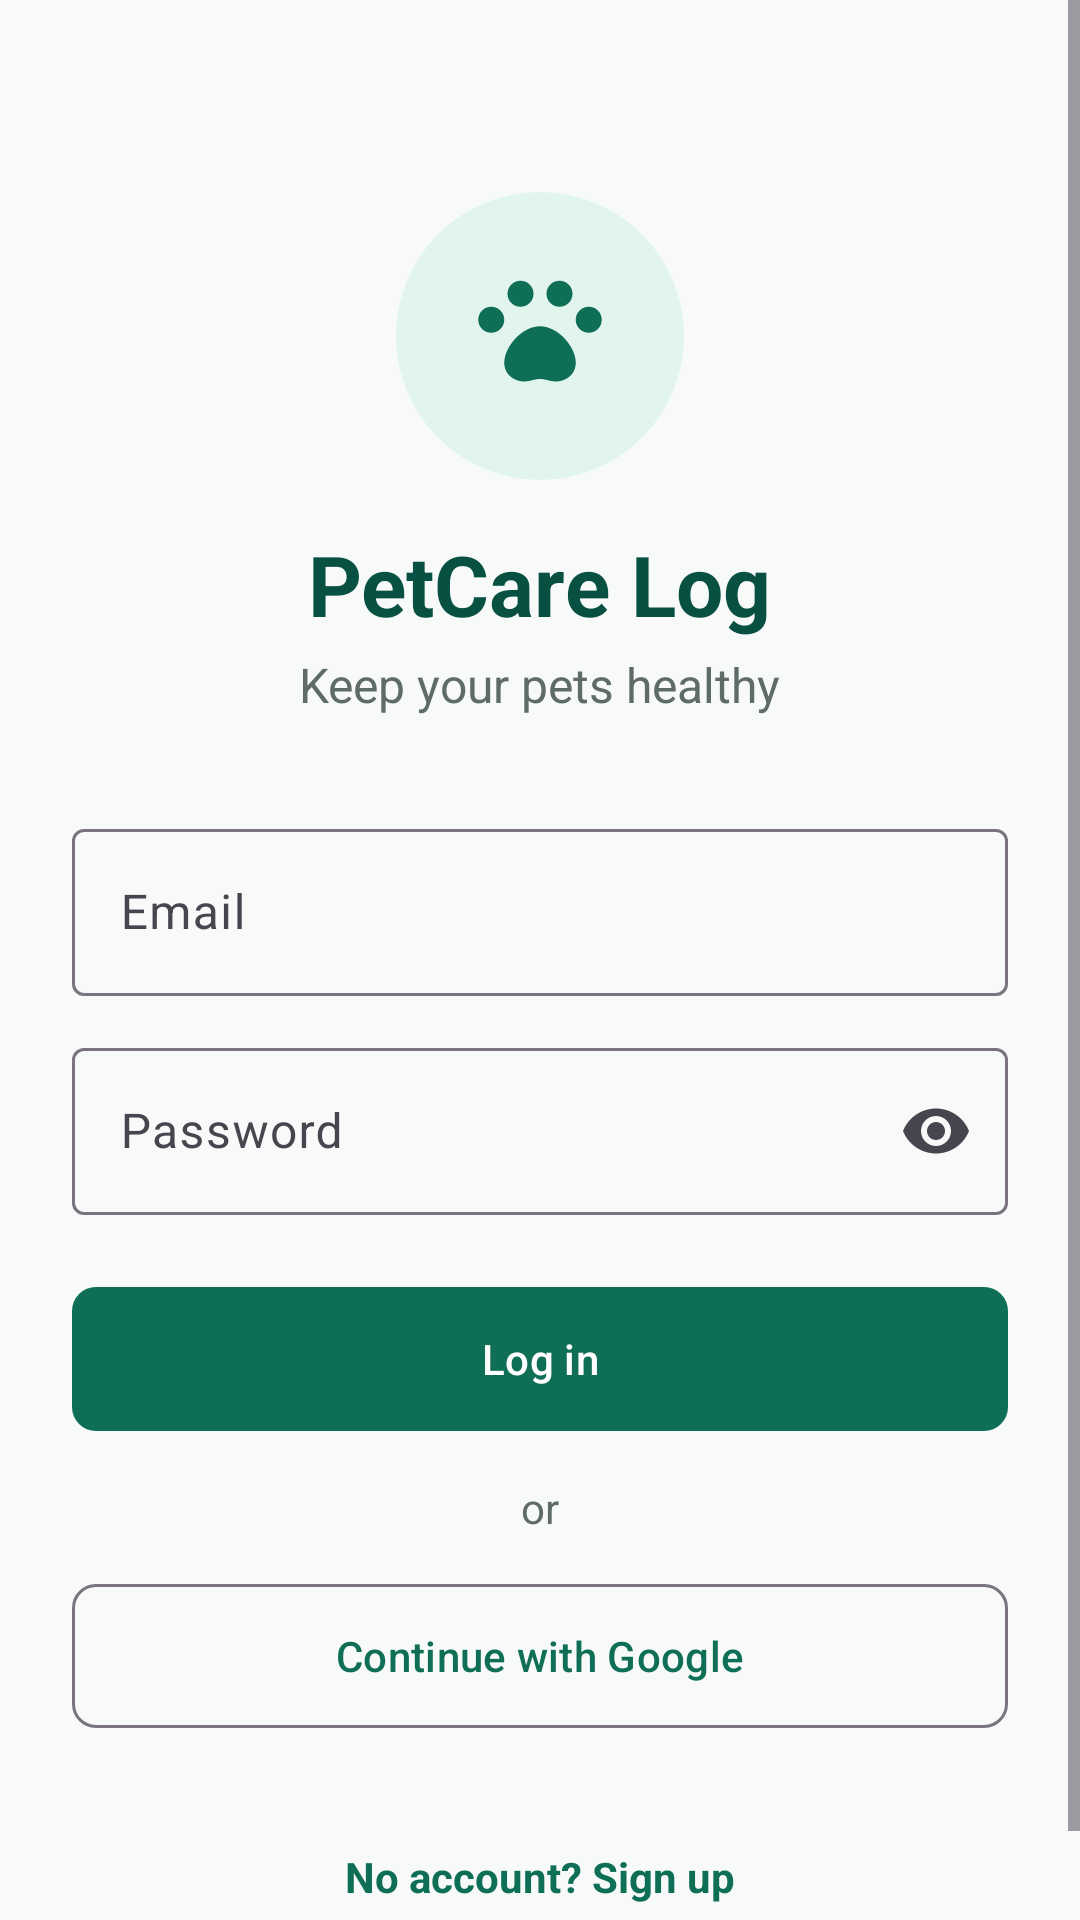

Named icons in this screenshot (1080px×1920px) and their bounding boxes, bbox=(x1, y1, x2, y2):
paw: bbox=(396, 192, 684, 480)
